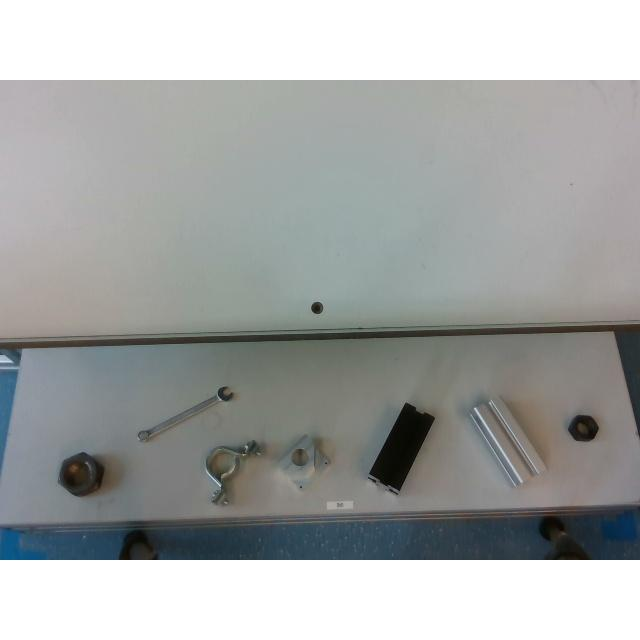Housing: (206, 442, 258, 502)
M20: (566, 415, 598, 441)
M30: (58, 452, 104, 496)
S40_40_B: (370, 403, 434, 493)
S40_40_G: (468, 397, 544, 487)
